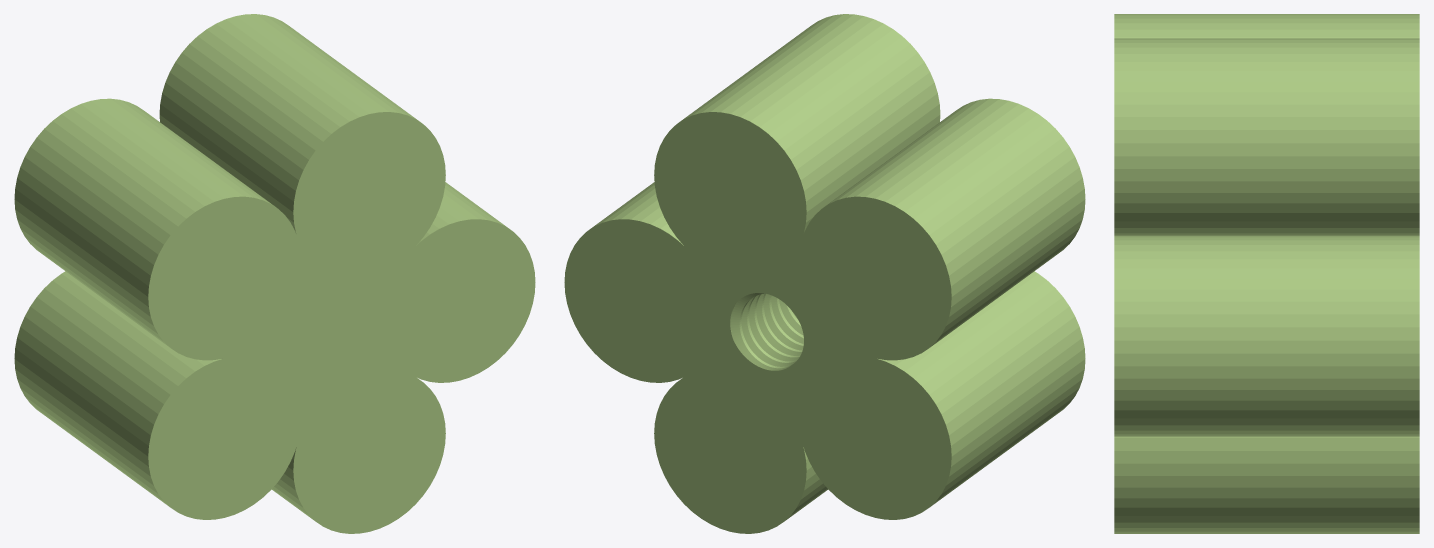
File: star_knob_demo.glb
3 renders of one model, left to right at view 1: azimuth 30°, elevation 25°; view 2: azimuth 150°, elevation 25°; view 3: azimuth 270°, elevation 25°, orthographic. The views are drawn at different scales.
Parts seen in each view (by area): view 1: star_knob; view 2: star_knob; view 3: star_knob.
Part boxes in pixels (box(x1,y1,x2,y2)): star_knob: box(14, 14, 535, 533); star_knob: box(564, 14, 1085, 533); star_knob: box(1114, 14, 1419, 533).
Size of the model in its own units: 30.08 by 31.01 by 18.
